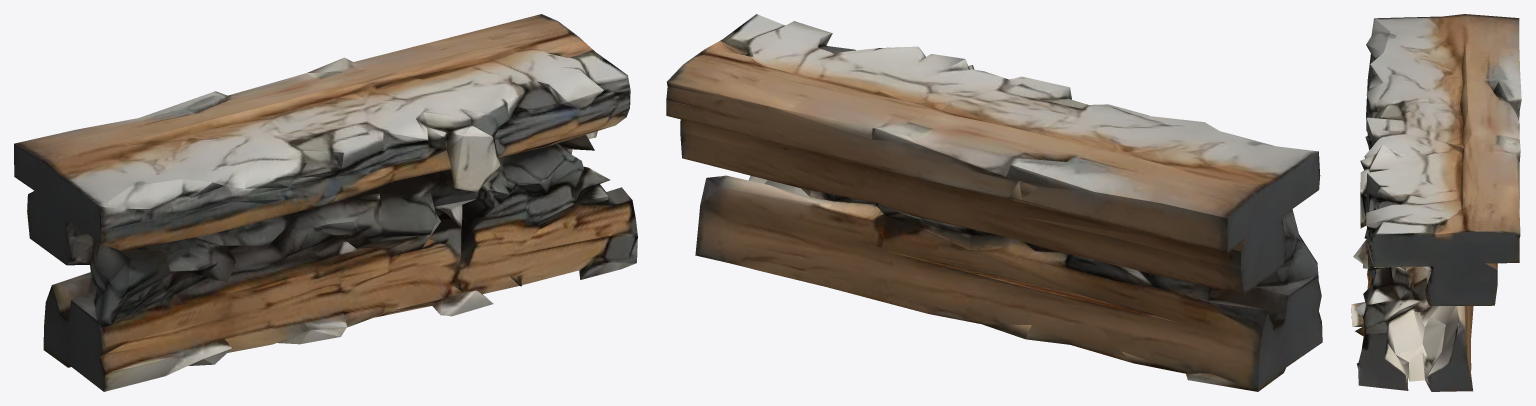
File: fallingDebris.glb
The picture shows the model from 3 angles, left to right: view 1: azimuth 30°, elevation 25°; view 2: azimuth 150°, elevation 25°; view 3: azimuth 270°, elevation 25°; orthographic projection. The views are drawn at different scales.
Visible parts, largest first — view 1: model; view 2: model; view 3: model.
Boxes of the visible parts, <box> form: model: <box>14,14,637,391</box>; model: <box>666,14,1322,391</box>; model: <box>1351,14,1521,391</box>.
Bounding box in the file's own units: 1.88 × 0.6658 × 0.6215.
Materials: 1 (1 with a texture image).
